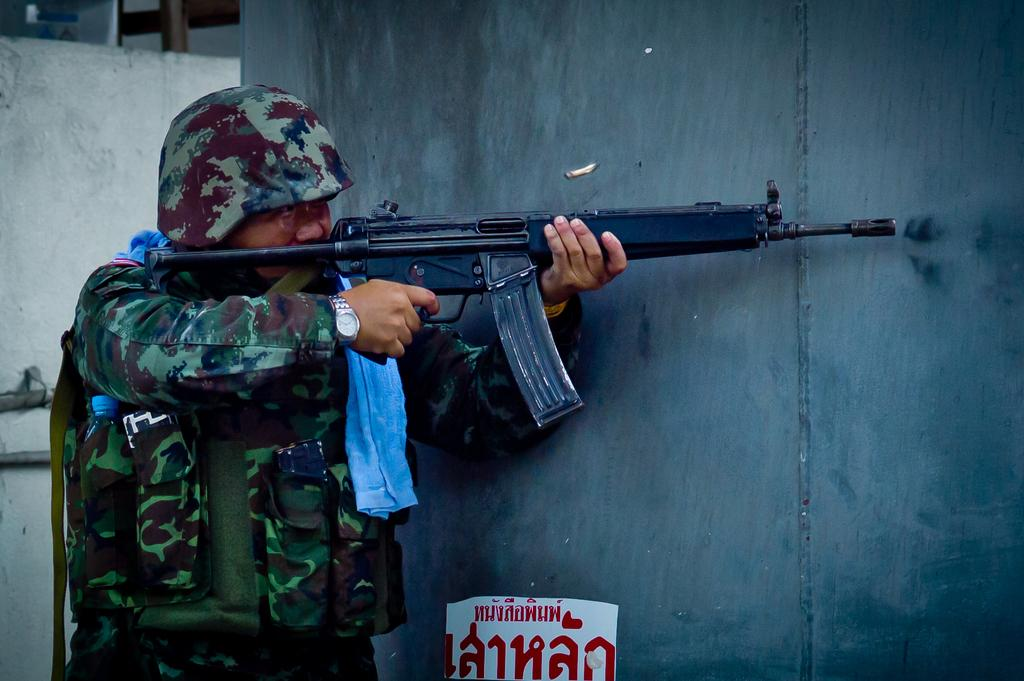Rifle: (150, 204, 888, 425)
